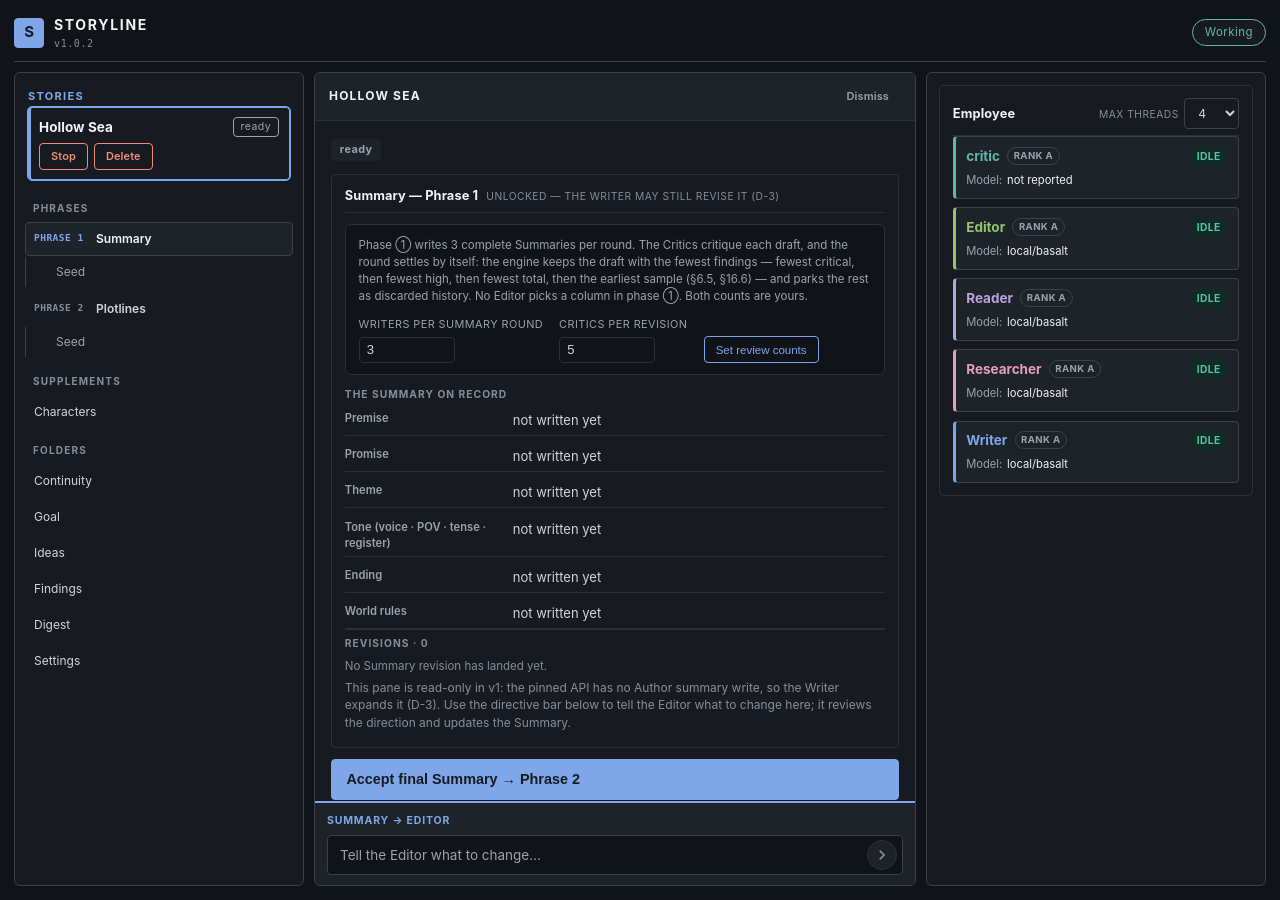
StorylineApp — the four regions (§10.1) › resets the thread surface when the Author switches straight from one employee to another (R7)
Click the button with aria-label "open Writer threads". click: (987, 440)
box: [966,430,1228,451]
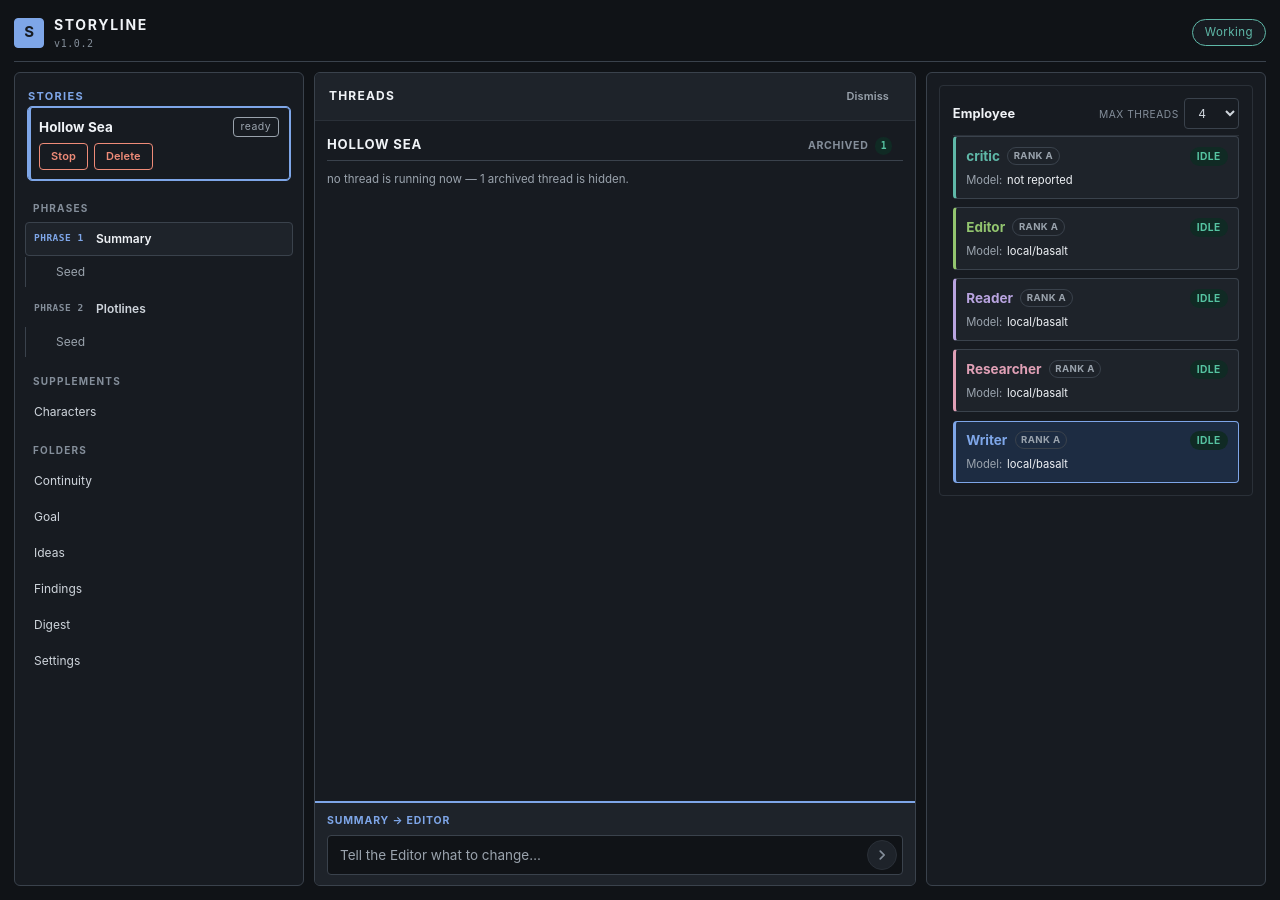
Check: the text "write the summary" is gone
Check: the text "no thread is running now — 1 archived thread is hidden." is shown, box [327,172,629,186]
Click the button "Archived 1". click: (850, 146)
box: [797,133,903,160]
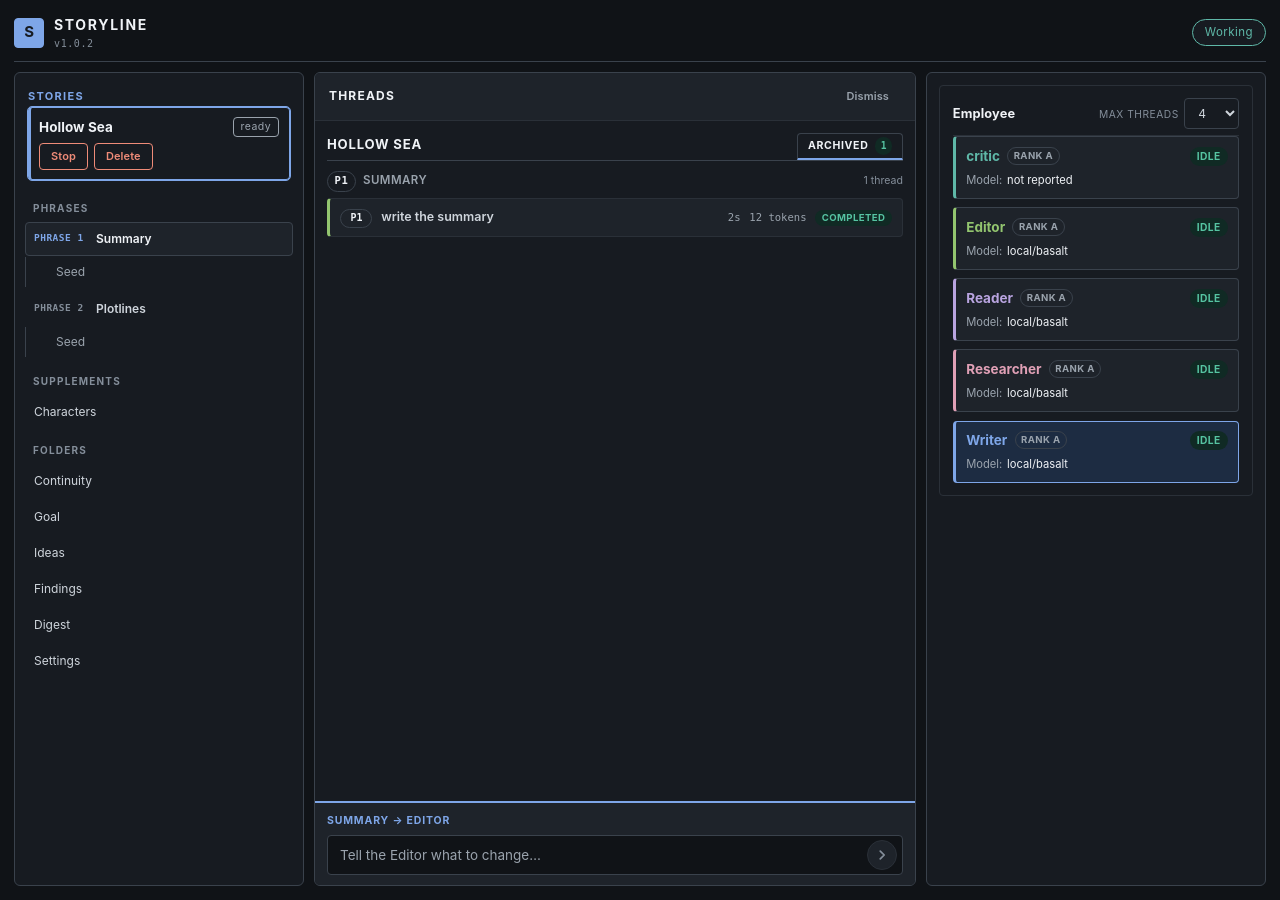
Check: the text "write the summary" is shown, box [381,209,494,224]
Click the button with aria-label "open Editor threads". click: (986, 227)
box: [966,217,1228,238]
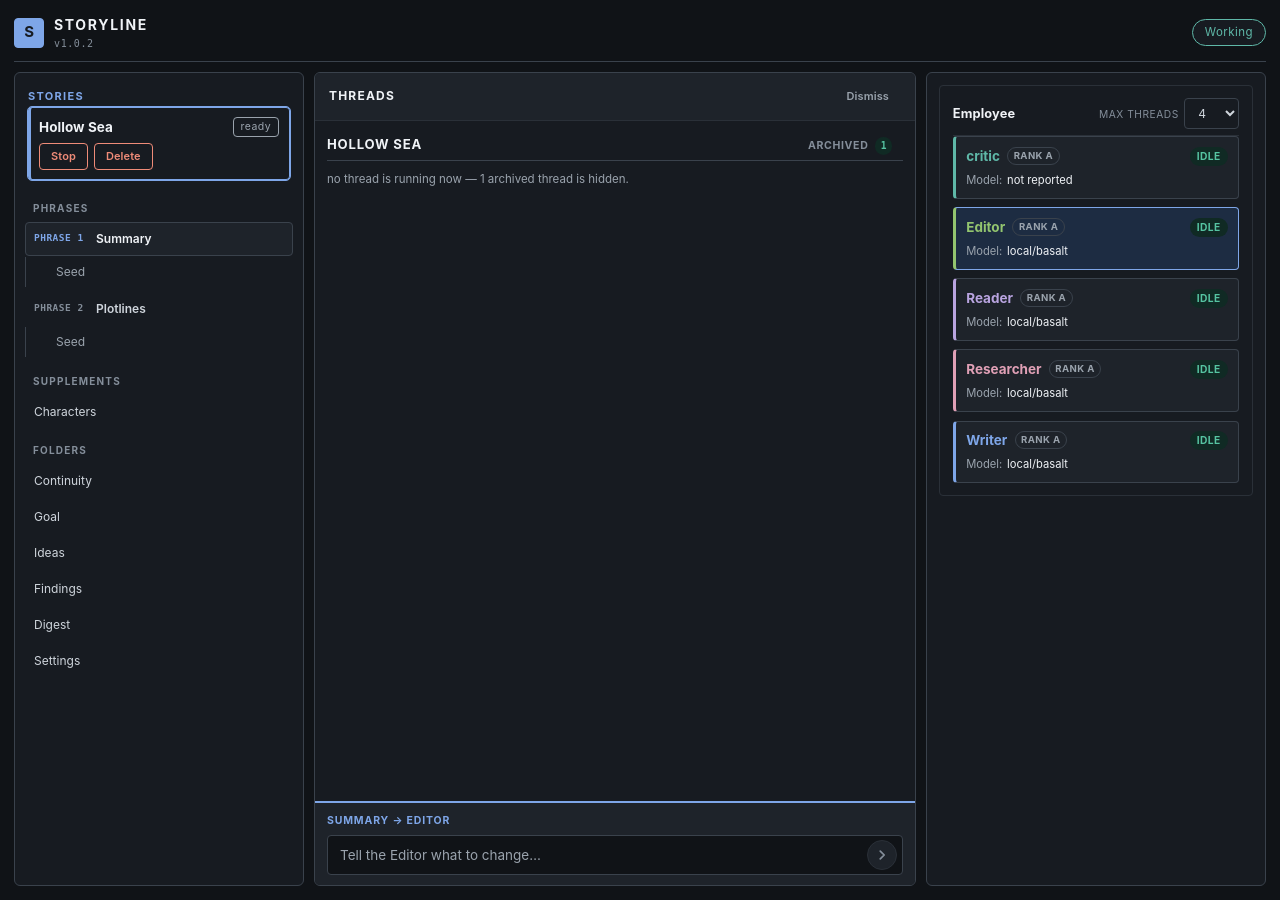
Check: the button "write the summary" is gone
